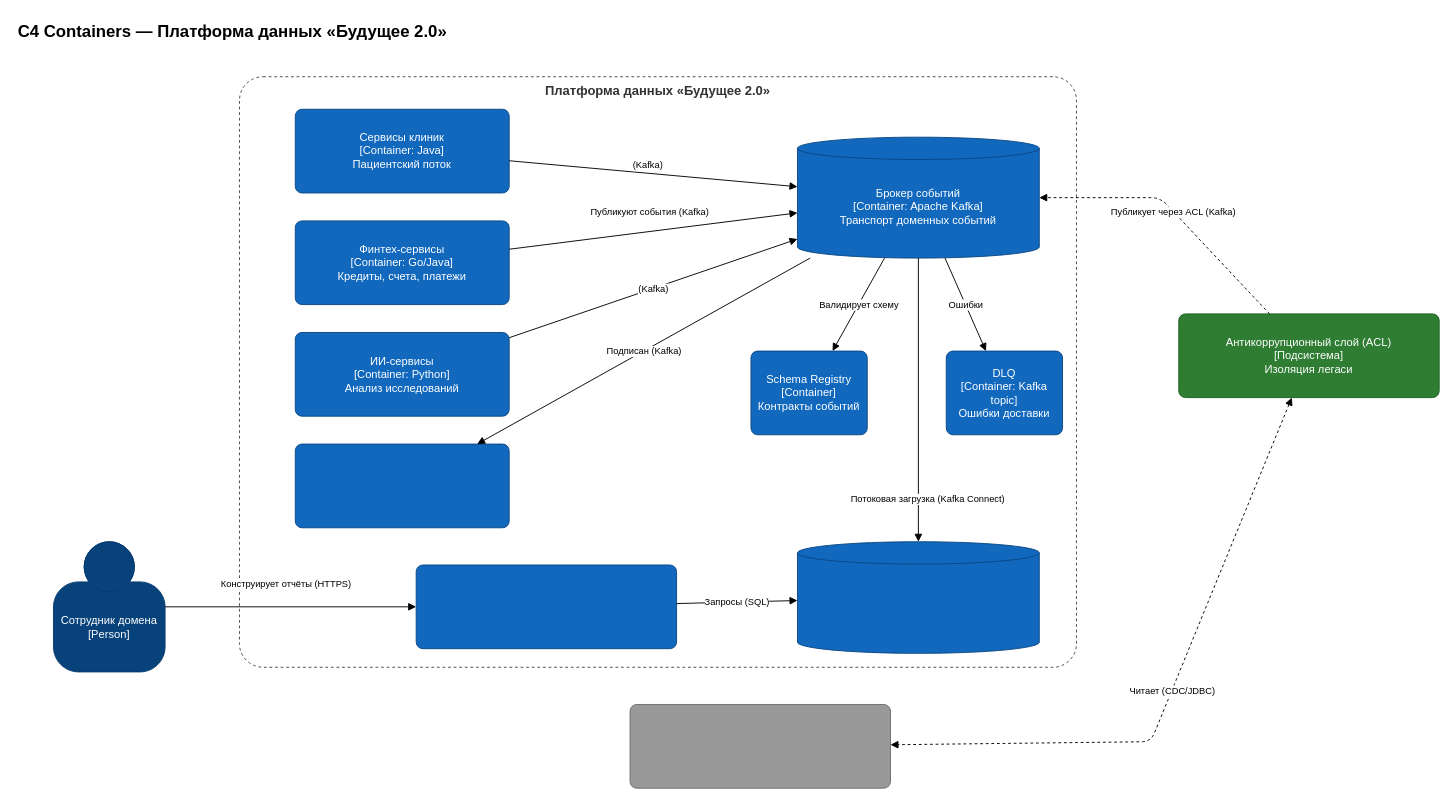
The diagram is 1455 pixels wide and 804 high, and some of its shapes have lost their labels. The centre of each missing label's shape, as x and y in pixels:
"Data Lakehouse [Container: S3 + table format] Хранение и аналит. таблицы" goes at point (918, 597).
"Легаси [Внешняя система] DWH (SQL Server) + ESB (Camel)" goes at point (759, 746).
"Портал самообслуживания [Container: Self-service BI] Конструктор отчётов" goes at point (546, 606).
"Сервис корп. отчётности [Container] Головной офис" goes at point (401, 485).
